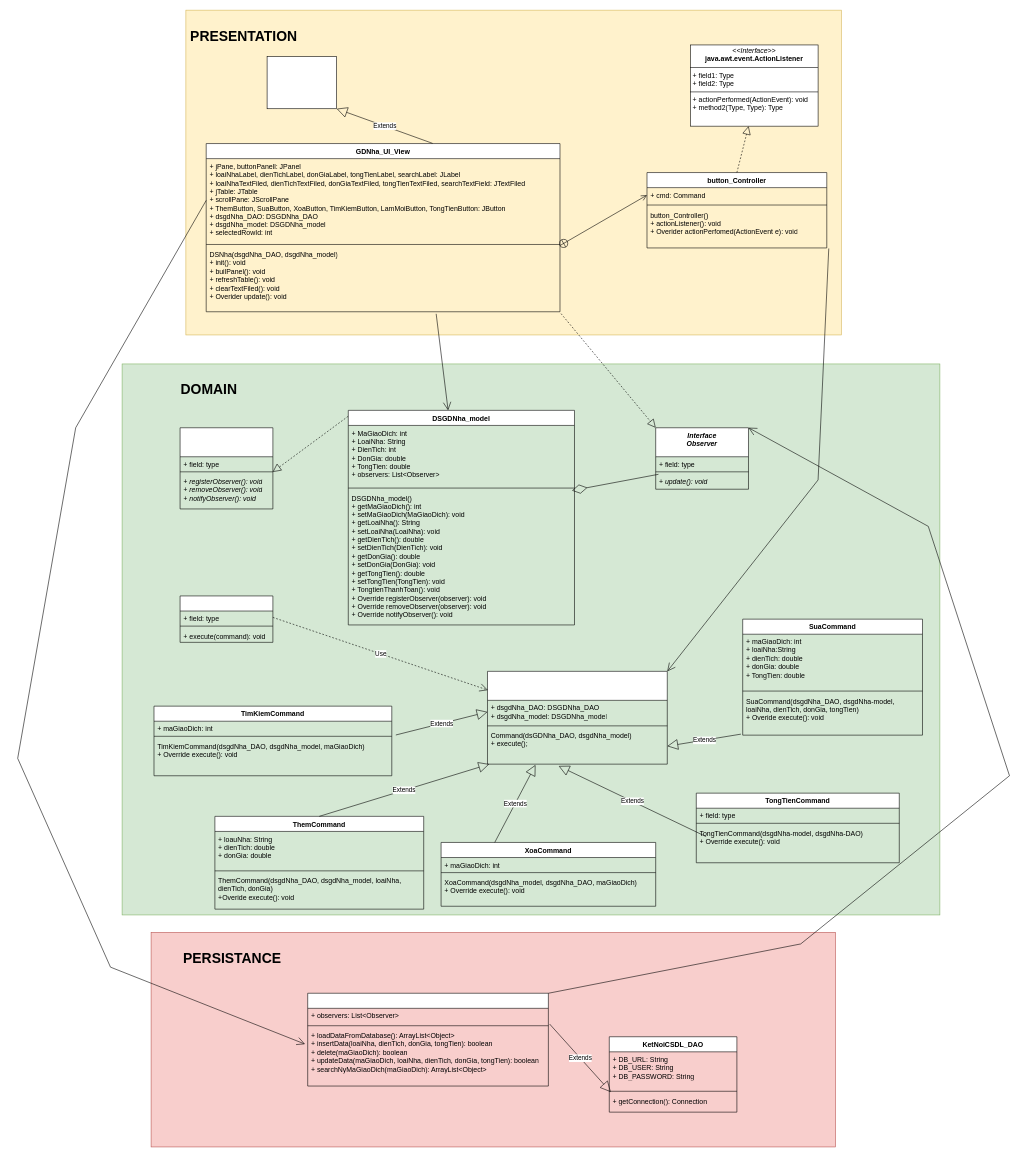
This 1028x1157 diagram has some shape labels left out. Here are the shapes that lost their labels. From the top down, the box of each, then its label:
(267, 56, 337, 109): javax.swing JFrame + field: Type + method(): Type
(180, 427, 273, 509): Interface Subject
(180, 595, 273, 642): CommandProcessor
(487, 671, 667, 764): Abstract Command
(307, 993, 548, 1086): DSGDNha_DAO
